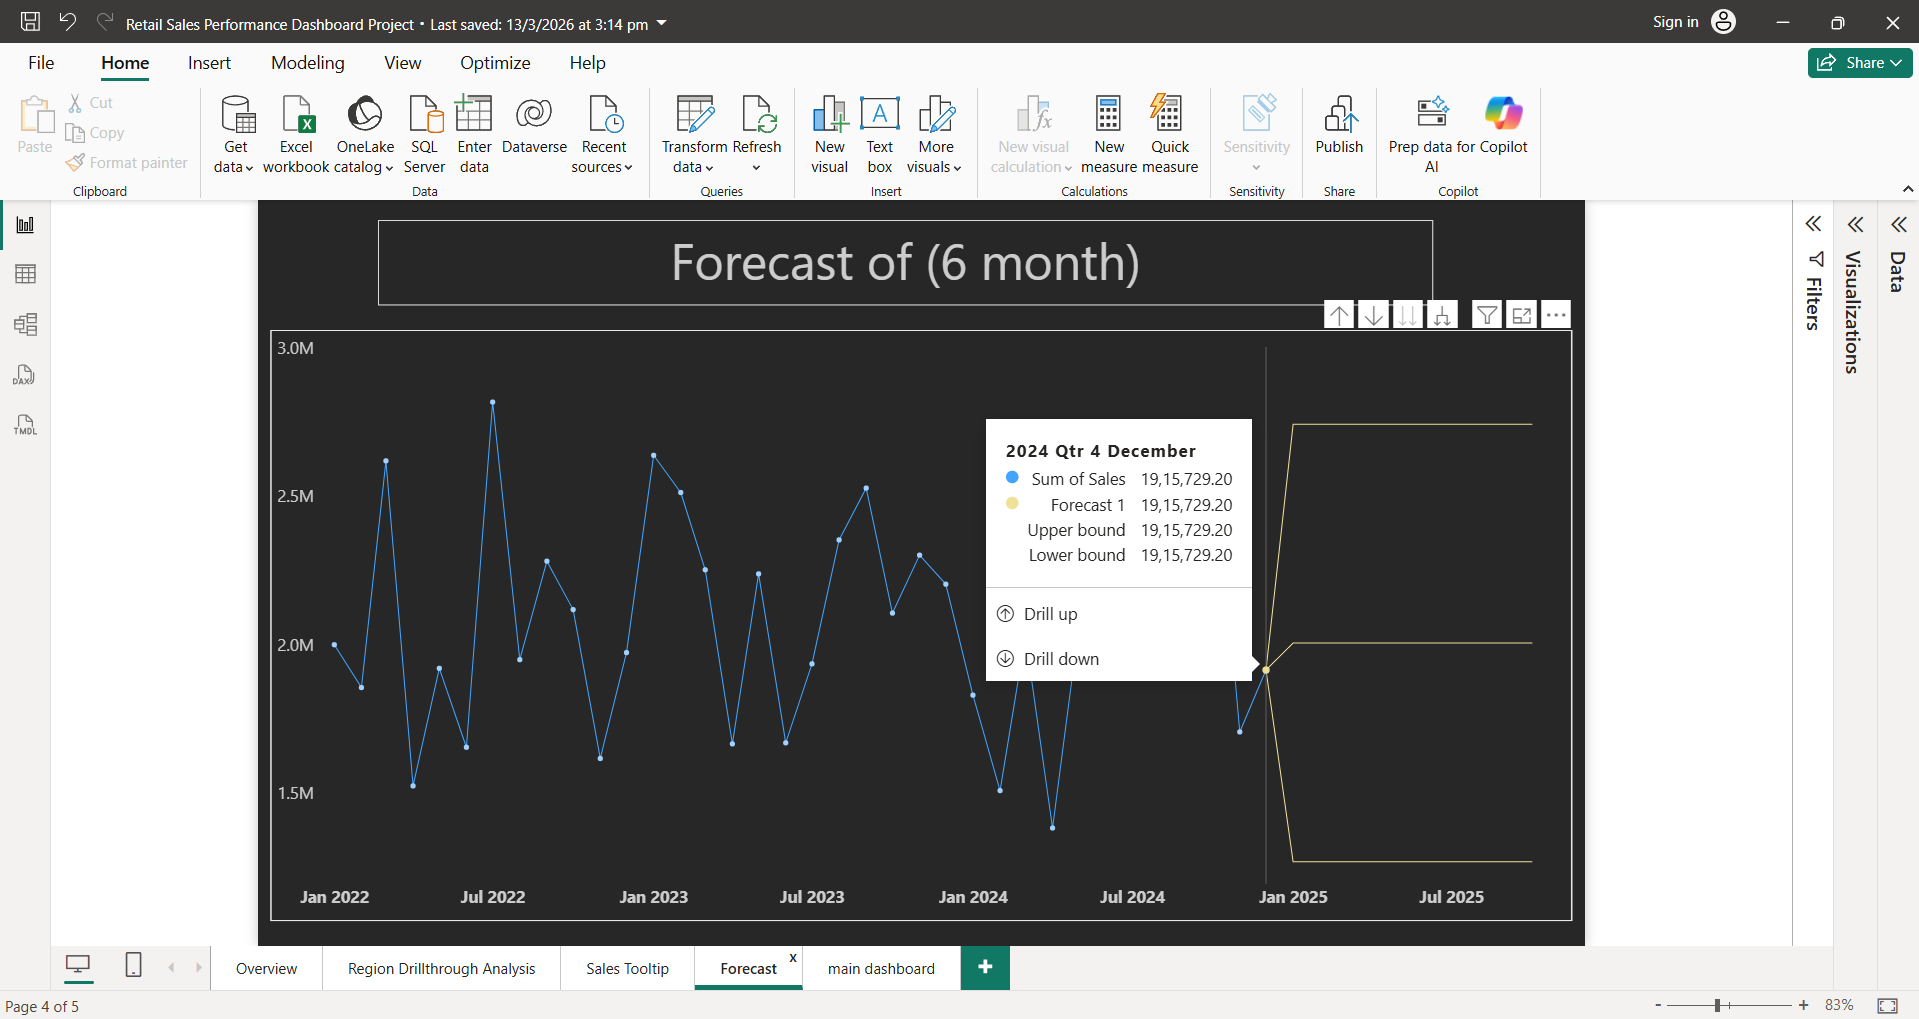

What the dashboard file says about the page in this screenshot:
{"tool":"powerbi","page":{"name":"Forecast","canvas":[1280,720],"ordinal":3},"visuals":[{"type":"lineChart","fields":{"Y":["Sum(SALES DATASET.Sales)"],"Category":["Date Table.Date.Variation.Date Hierarchy.Year","Date Table.Date.Variation.Date Hierarchy.Quarter","Date Table.Date.Variation.Date Hierarchy.Month","Date Table.Date.Variation.Date Hierarchy.Day"]},"box":[12.1,125.5,1255.9,570.6],"z":0},{"type":"textbox","box":[116.2,18.8,1018.8,82.5],"z":1000}]}

Visuals, with their boxes on the page's 1280x720 design canvas (x1, y1, x2, y2). These are canvas units, not pixel positions in the 1919x1019 screenshot, which may show the page scaled, cropped or inside an application window:
lineChart - Sum(SALES DATASET.Sales) x Date Table.Date.Variation.Date Hierarchy.Year: bbox(12, 126, 1268, 696)
textbox: bbox(116, 19, 1135, 101)
